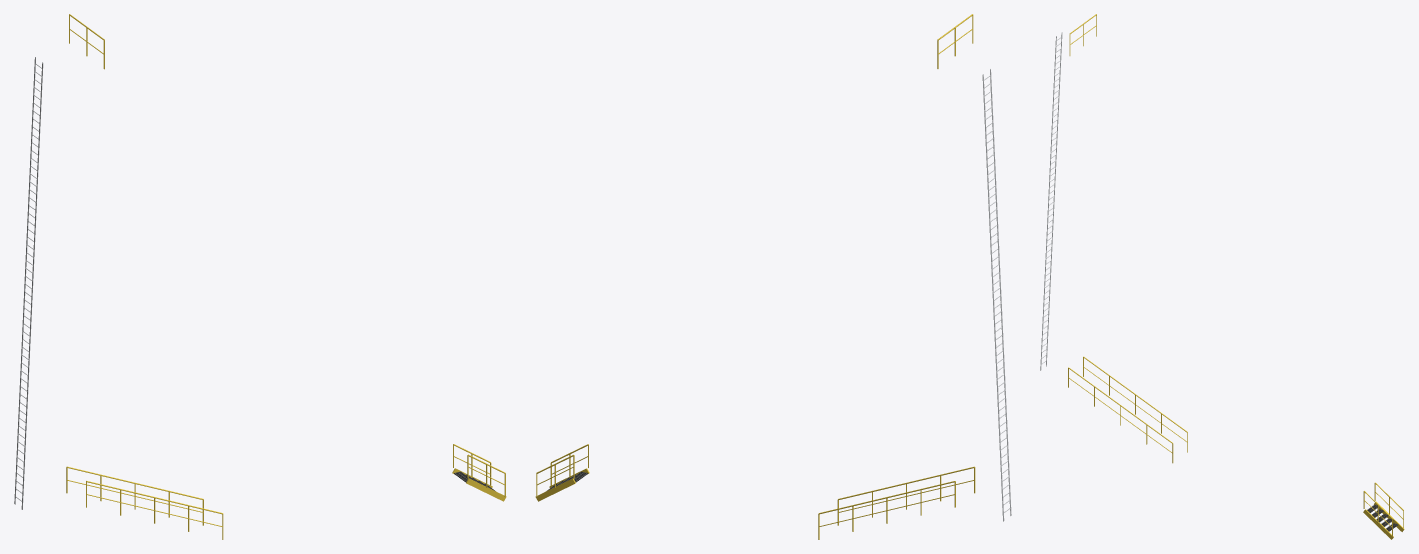
The model's file is additions.glb.
The picture shows the model from 3 angles, left to right: view 1: azimuth 30°, elevation 25°; view 2: azimuth 150°, elevation 25°; view 3: azimuth 330°, elevation 25°; orthographic projection. The views are drawn at different scales.
Visible parts, largest first — view 1: adic_amarillo, adic_galvanizado; view 2: adic_amarillo, adic_galvanizado; view 3: adic_amarillo, adic_galvanizado.
Boxes of the visible parts, left/top/right/bottom form: adic_amarillo: left=66, top=14, right=506, bottom=539; adic_galvanizado: left=14, top=57, right=43, bottom=509; adic_amarillo: left=535, top=14, right=975, bottom=539; adic_galvanizado: left=982, top=69, right=1011, bottom=521; adic_amarillo: left=1068, top=14, right=1404, bottom=539; adic_galvanizado: left=1040, top=32, right=1062, bottom=370.
Size of the model in its own units: 19.08 by 21.97 by 2.48.
Materials: 3 (1 with a texture image).
